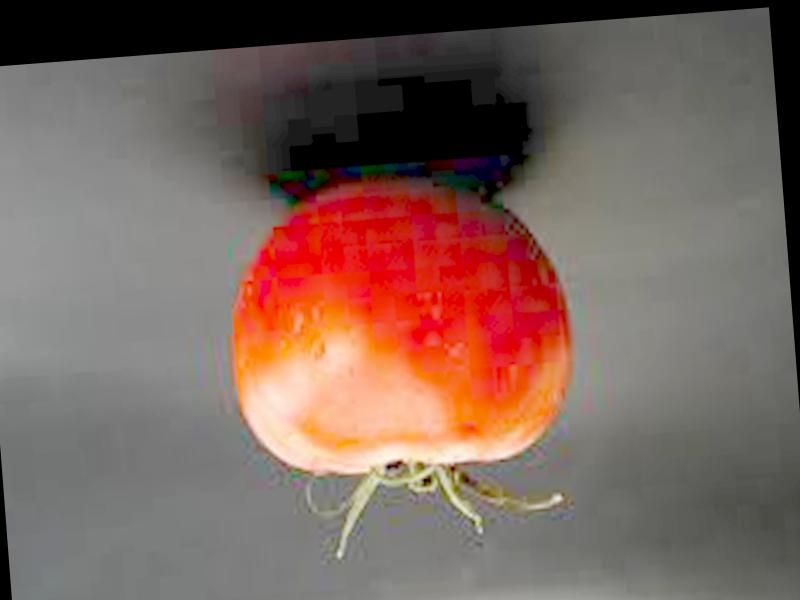Tomato: (216, 171, 578, 481)
